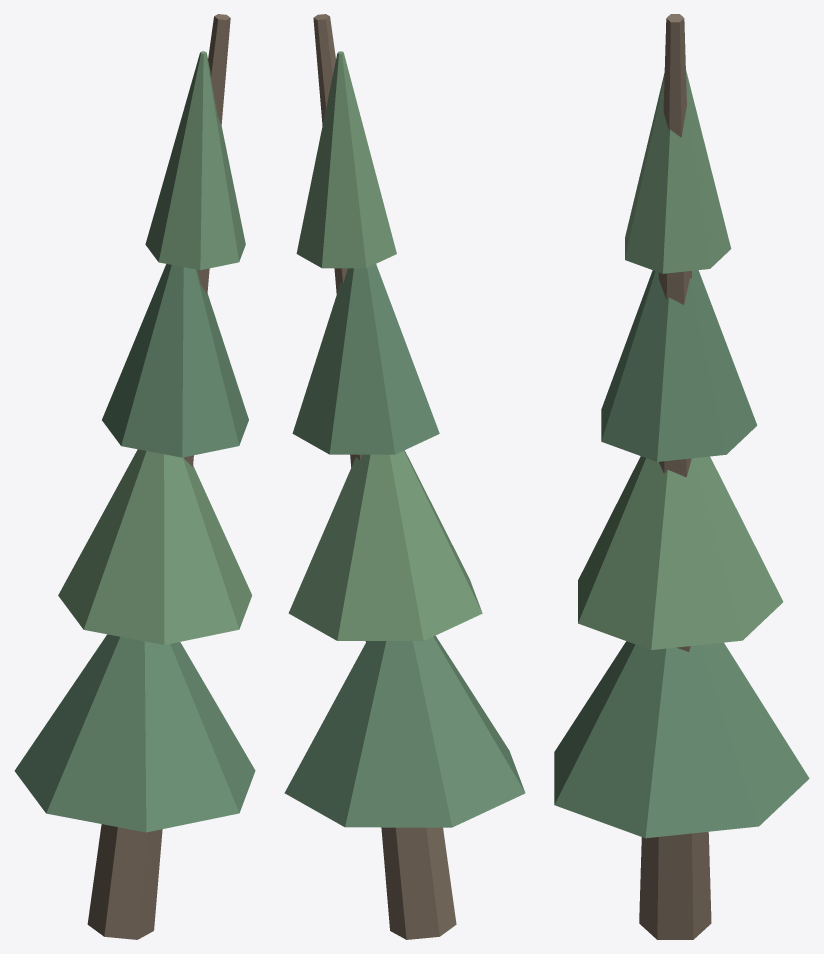
File: pine_v24.glb
The picture shows the model from 3 angles, left to right: view 1: azimuth 30°, elevation 25°; view 2: azimuth 150°, elevation 25°; view 3: azimuth 270°, elevation 25°; orthographic projection. The views are drawn at different scales.
Visible parts, largest first — view 1: lod0; view 2: lod0; view 3: lod0.
Part boxes in pixels (box(x1,y1,x2,y2)): lod0: box(14, 14, 255, 939); lod0: box(284, 14, 525, 939); lod0: box(554, 14, 809, 939).
Size of what is drawn, in the model's own units: 1.45 by 5.88 by 1.41.
